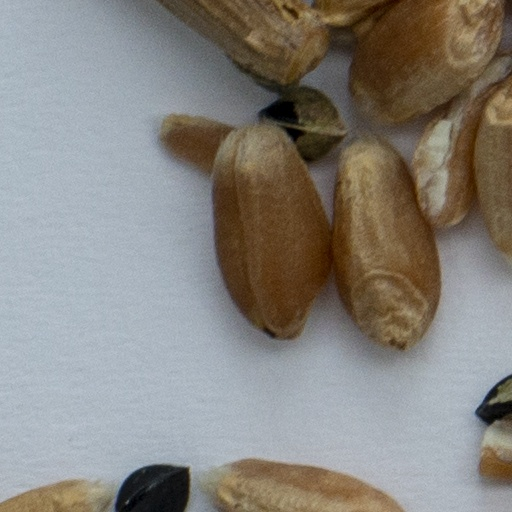Fallopia-Сonvolvulus-poly: (265, 83, 343, 156), (116, 465, 188, 511), (478, 376, 511, 421)
Wheat-grain-damaged-poly: (476, 420, 511, 481)
